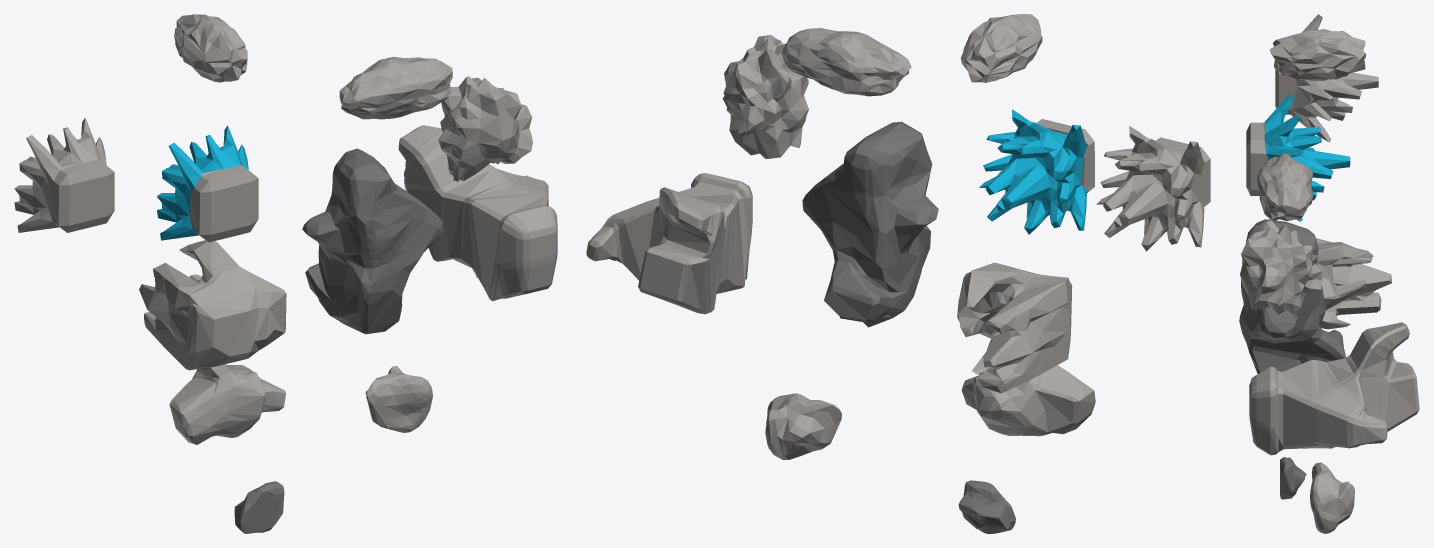
The picture shows the model from 3 angles, left to right: view 1: azimuth 30°, elevation 25°; view 2: azimuth 150°, elevation 25°; view 3: azimuth 270°, elevation 25°; orthographic projection. The views are drawn at different scales.
Visible parts, largest first — view 1: imagetostl_mesh4, imagetostl_mesh5, imagetostl_mesh3, imagetostl_mesh7, imagetostl_mesh6, imagetostl_mesh10, imagetostl_mesh2, imagetostl_mesh9, imagetostl_mesh8, imagetostl_mesh1, imagetostl_mesh0; view 2: imagetostl_mesh4, imagetostl_mesh5, imagetostl_mesh3, imagetostl_mesh7, imagetostl_mesh6, imagetostl_mesh10, imagetostl_mesh2, imagetostl_mesh9, imagetostl_mesh8, imagetostl_mesh1, imagetostl_mesh0; view 3: imagetostl_mesh5, imagetostl_mesh4, imagetostl_mesh10, imagetostl_mesh7, imagetostl_mesh3, imagetostl_mesh8, imagetostl_mesh6, imagetostl_mesh9, imagetostl_mesh1, imagetostl_mesh0.
Part boxes in pixels (box(x1,y1,x2,y2)): imagetostl_mesh4: box(302, 148, 443, 334); imagetostl_mesh5: box(398, 125, 557, 301); imagetostl_mesh3: box(139, 240, 286, 370); imagetostl_mesh7: box(157, 125, 258, 242); imagetostl_mesh6: box(14, 118, 114, 232); imagetostl_mesh10: box(438, 76, 532, 181); imagetostl_mesh2: box(169, 364, 285, 444); imagetostl_mesh9: box(339, 57, 452, 119); imagetostl_mesh8: box(174, 14, 247, 82); imagetostl_mesh1: box(365, 366, 432, 432); imagetostl_mesh0: box(234, 481, 284, 533); imagetostl_mesh4: box(802, 121, 938, 327); imagetostl_mesh5: box(586, 173, 752, 314); imagetostl_mesh3: box(957, 262, 1072, 393); imagetostl_mesh7: box(979, 109, 1094, 234); imagetostl_mesh6: box(1096, 126, 1210, 251); imagetostl_mesh10: box(723, 35, 808, 158); imagetostl_mesh2: box(961, 365, 1095, 436); imagetostl_mesh9: box(781, 28, 911, 96); imagetostl_mesh8: box(960, 14, 1042, 82); imagetostl_mesh1: box(765, 393, 841, 459); imagetostl_mesh0: box(958, 480, 1015, 533); imagetostl_mesh5: box(1249, 322, 1419, 455); imagetostl_mesh4: box(1239, 219, 1346, 373); imagetostl_mesh10: box(1240, 220, 1322, 318); imagetostl_mesh7: box(1246, 94, 1350, 221); imagetostl_mesh3: box(1316, 238, 1391, 329); imagetostl_mesh8: box(1269, 29, 1366, 80); imagetostl_mesh6: box(1275, 14, 1378, 141); imagetostl_mesh9: box(1257, 153, 1312, 221); imagetostl_mesh1: box(1310, 462, 1354, 533); imagetostl_mesh0: box(1280, 457, 1306, 499).
Size of the model in its own units: 27.94 by 24.65 by 8.89.
